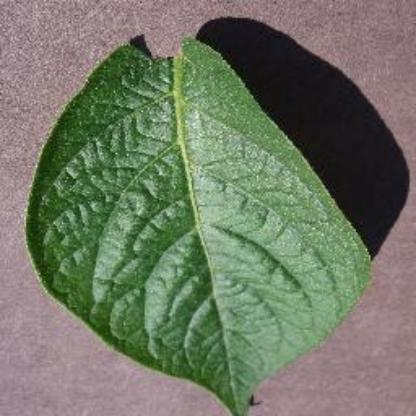Healthy-plant: (22, 37, 380, 415)
